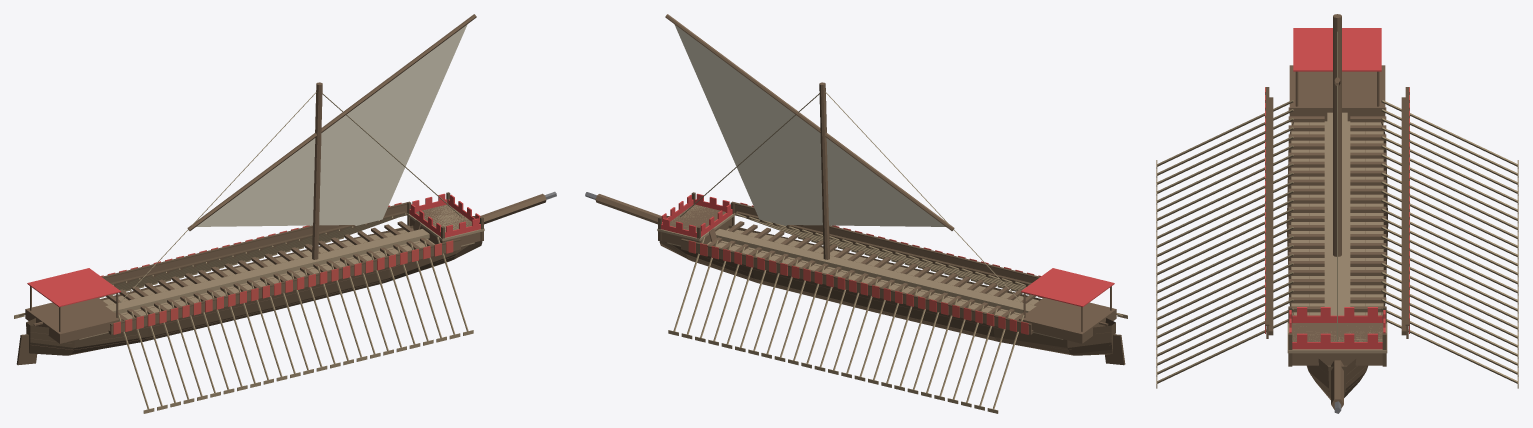
The model's file is galley.glb.
3 views of the same model, side by side, from view 1: azimuth 30°, elevation 25°; view 2: azimuth 150°, elevation 25°; view 3: azimuth 270°, elevation 25° (orthographic). The views are drawn at different scales.
Parts seen in each view (by area): view 1: galley; view 2: galley; view 3: galley.
Boxes of the visible parts, <box> form: galley: <box>14,14,556,413</box>; galley: <box>585,14,1127,413</box>; galley: <box>1156,14,1518,413</box>.
Size of the model in its own units: 46.98 by 21.29 by 19.66.
